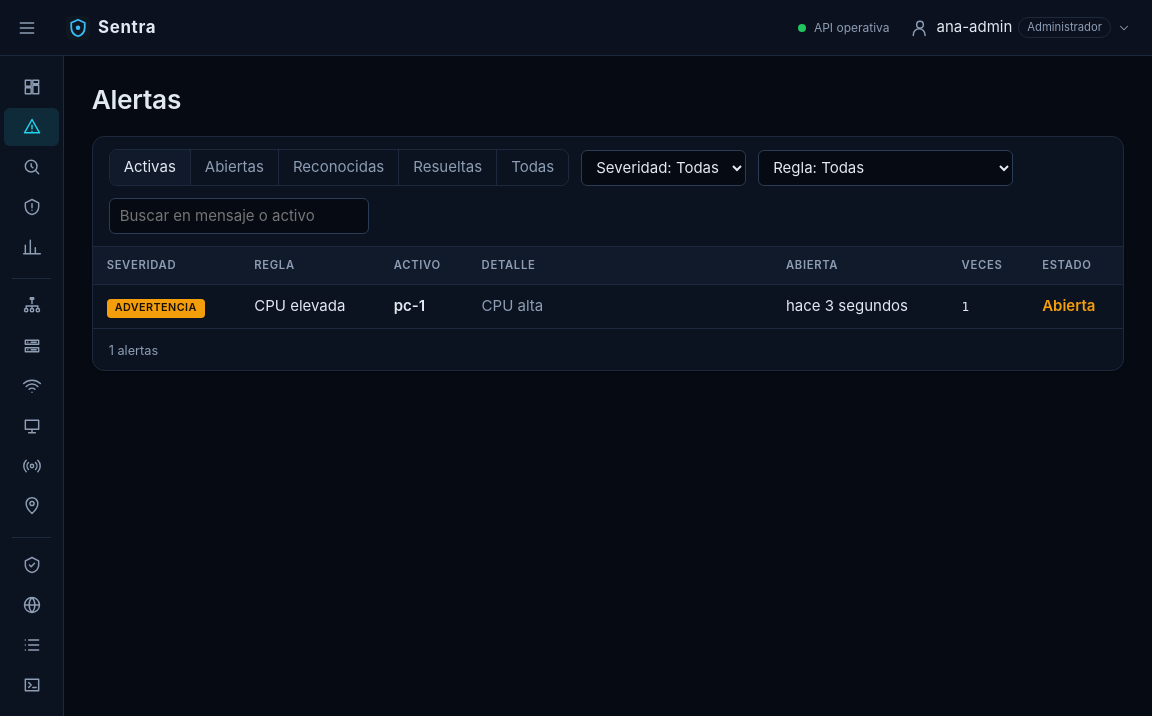
alertas por rol › un 403 del backend se explica aunque la UI mostrara el botón
The image size is (1152, 716).
Click the text "CPU alta". click: [512, 306]
box: [468,285,772,328]
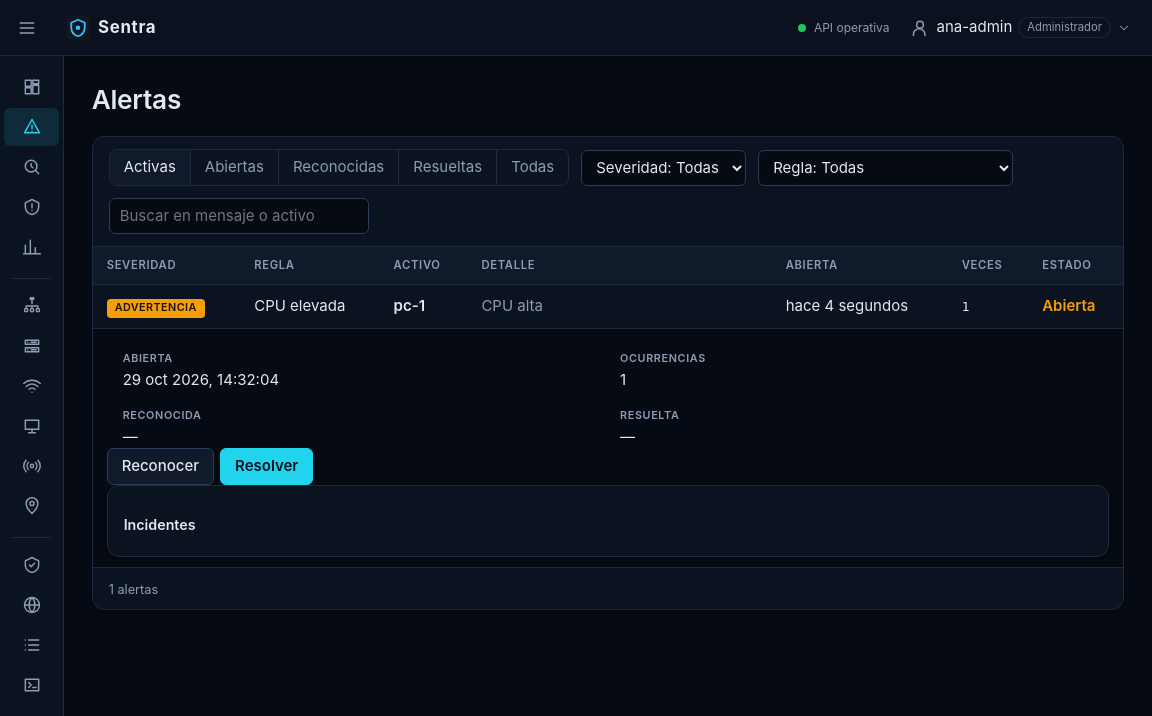
Click the button "Resolver". click: [267, 466]
box: [220,448,313,485]
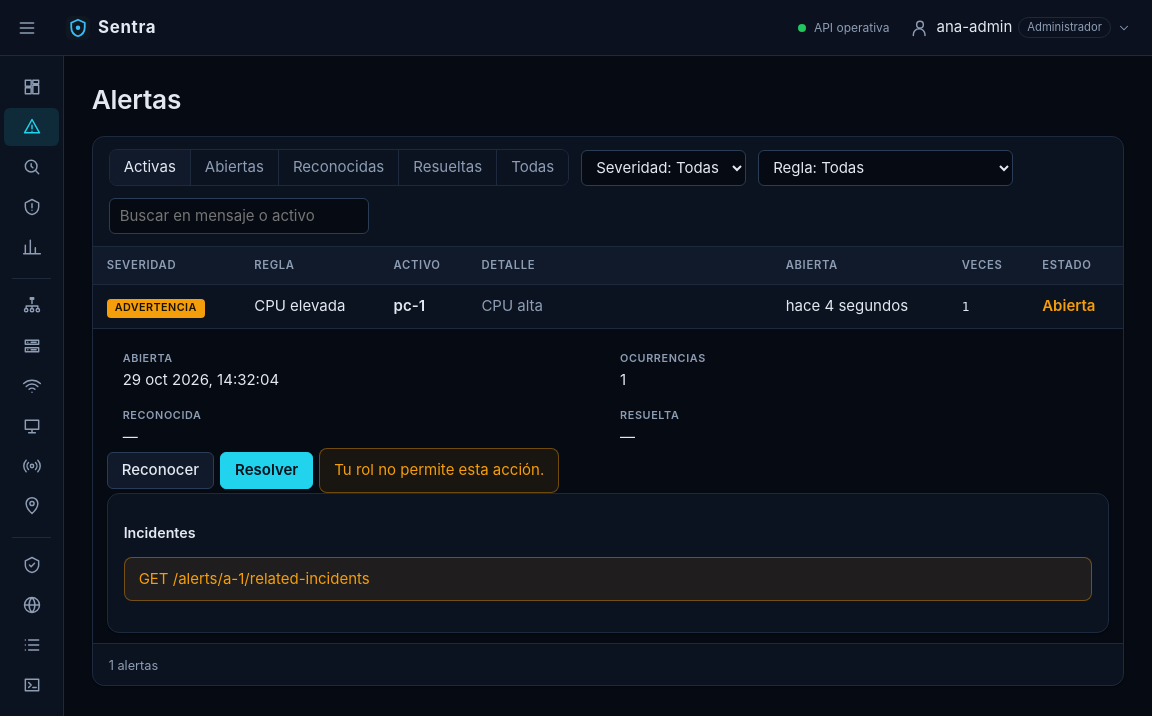
Expected: the text "Tu rol no permite esta acción." is shown, [319,448,559,493]
